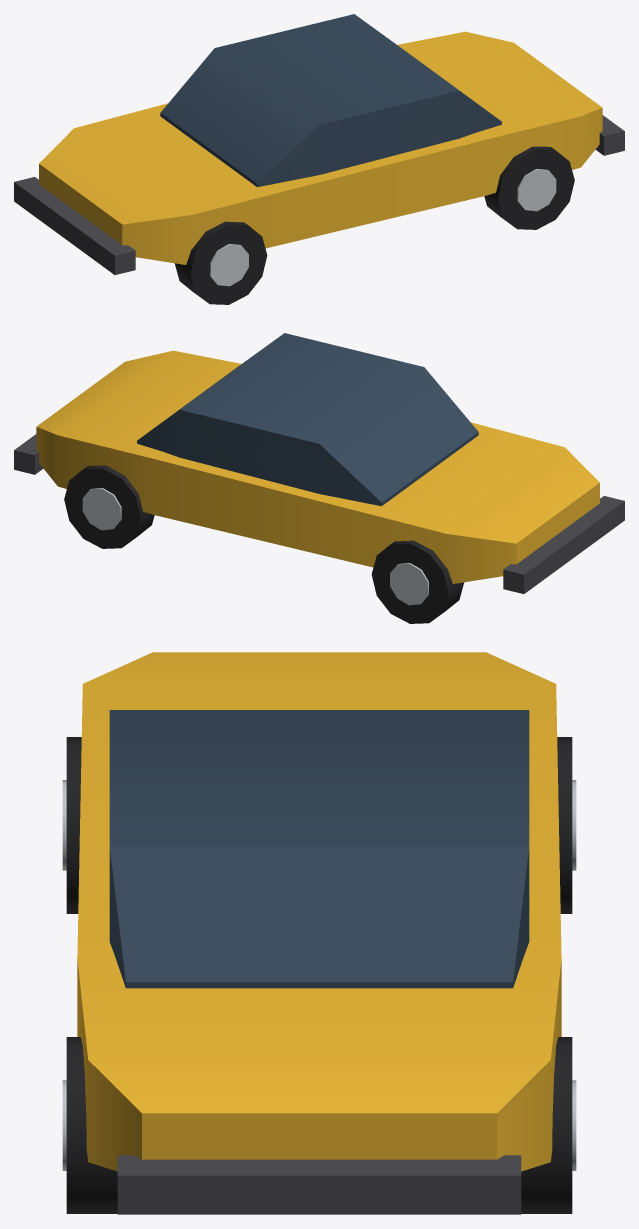
File: car_sedan_yellow.fbx
The picture shows the model from 3 angles, top to bottom: view 1: azimuth 30°, elevation 25°; view 2: azimuth 150°, elevation 25°; view 3: azimuth 270°, elevation 25°; orthographic projection. The views are drawn at different scales.
Parts seen in each view (by area): view 1: Body, Wheel_FR, Wheel_RR; view 2: Body, Wheel_FL, Wheel_RL; view 3: Body, Wheel_RL, Wheel_RR, Wheel_FL, Wheel_FR.
Boxes of the visible parts, <box> form: Body: <box>14,14,624,274</box>; Wheel_FR: <box>174,221,267,304</box>; Wheel_RR: <box>484,146,574,229</box>; Body: <box>14,333,624,593</box>; Wheel_FL: <box>371,540,464,623</box>; Wheel_RL: <box>64,465,154,548</box>; Body: <box>77,652,561,1214</box>; Wheel_RL: <box>521,1037,576,1213</box>; Wheel_RR: <box>62,1037,117,1213</box>; Wheel_FL: <box>557,737,576,913</box>; Wheel_FR: <box>62,737,81,913</box>.
Size of the model in its own units: 4.38 by 1.21 by 1.91.
